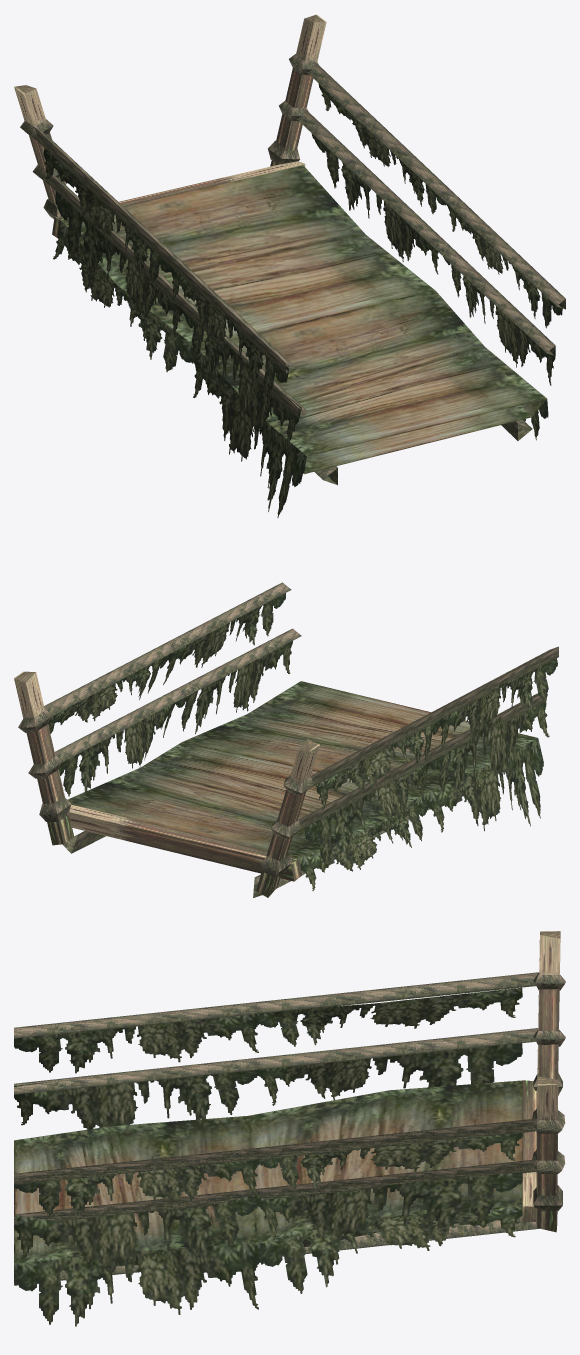
Rendered from C1SMBRIDGEROPEA.obj.
3 renders of one model, top to bottom at view 1: azimuth 30°, elevation 25°; view 2: azimuth 150°, elevation 25°; view 3: azimuth 270°, elevation 25°, orthographic. The views are drawn at different scales.
Visible parts, largest first — view 1: Node 0; view 2: Node 0; view 3: Node 0.
Boxes of the visible parts, x1,y1,x2,y2 form: Node 0: [14, 14, 565, 517]; Node 0: [14, 582, 558, 897]; Node 0: [14, 931, 565, 1326].
Bounding box in the file's own units: 9.37 × 8.29 × 14.22.
Materials: 4 (4 with a texture image).
